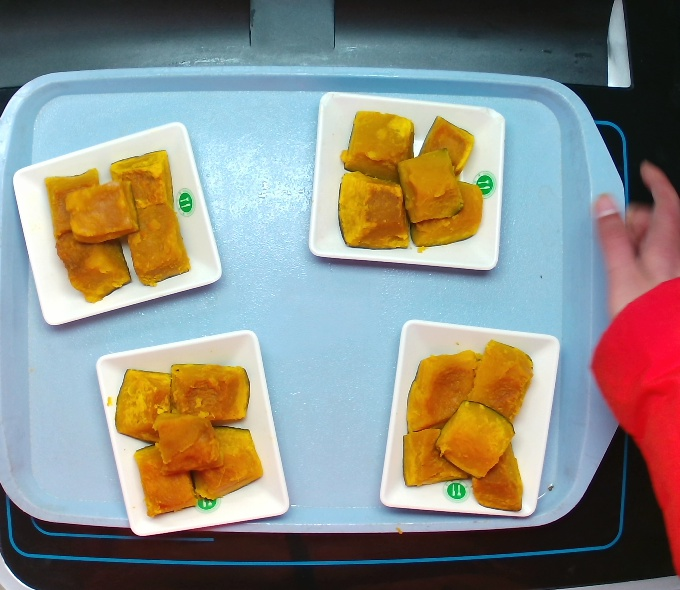wcq-RiBenNanGua: (101, 355, 274, 508), (44, 142, 194, 302), (398, 344, 536, 503), (332, 109, 488, 248)
